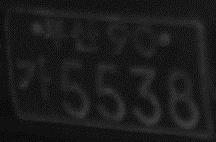0: (133, 23, 159, 58)
3: (128, 64, 164, 128)
5: (56, 58, 93, 120), (93, 61, 127, 123)
8: (165, 67, 202, 131)
9: (106, 22, 132, 56)
가: (14, 54, 54, 103)
부산_O: (45, 15, 100, 55)
